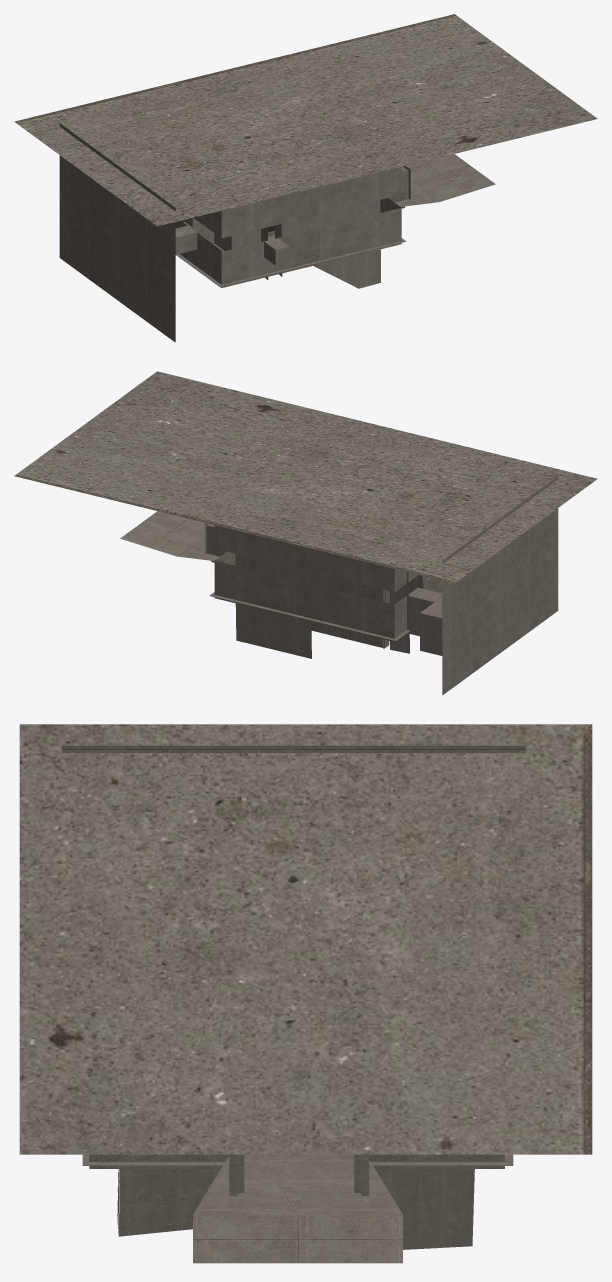
File: 3drop_gallery_v31.glb
3 renders of one model, top to bottom at view 1: azimuth 30°, elevation 25°; view 2: azimuth 150°, elevation 25°; view 3: azimuth 270°, elevation 25°, orthographic. The views are drawn at different scales.
Parts seen in each view (by area): view 1: frameConcreteExternalTop, frameConcreteExternal, frameVisitableZoneSuround, EntrancePlateformConcrete_grndPhys, ctrlPlateformConcrete_grndPhys; view 2: frameConcreteExternalTop, frameConcreteExternal, frameVisitableZoneSuround, EntrancePlateformConcrete_grndPhys, ctrlPlateformConcrete_grndPhys; view 3: frameConcreteExternalTop, frameVisitableZoneSuround, ctrlPlateformConcrete_grndPhys, EntrancePlateformConcrete_grndPhys, frameConcreteExternal, entranceLobbyConcrete.
Boxes of the visible parts, x1,y1,x2,y2 form: frameConcreteExternalTop: [14, 14, 597, 226]; frameConcreteExternal: [59, 123, 404, 342]; frameVisitableZoneSuround: [181, 200, 381, 288]; EntrancePlateformConcrete_grndPhys: [406, 154, 495, 201]; ctrlPlateformConcrete_grndPhys: [176, 181, 439, 286]; frameConcreteExternalTop: [14, 371, 597, 583]; frameConcreteExternal: [211, 476, 558, 695]; frameVisitableZoneSuround: [235, 553, 428, 658]; EntrancePlateformConcrete_grndPhys: [120, 511, 205, 556]; ctrlPlateformConcrete_grndPhys: [176, 536, 409, 641]; frameConcreteExternalTop: [19, 724, 592, 1154]; frameVisitableZoneSuround: [117, 1169, 474, 1249]; ctrlPlateformConcrete_grndPhys: [82, 1154, 513, 1215]; EntrancePlateformConcrete_grndPhys: [193, 1215, 402, 1263]; frameConcreteExternal: [62, 745, 525, 1168]; entranceLobbyConcrete: [229, 1154, 369, 1196].
Bounding box in the file's own units: 196 × 62.19 × 110.
2 materials, 2 textured.
